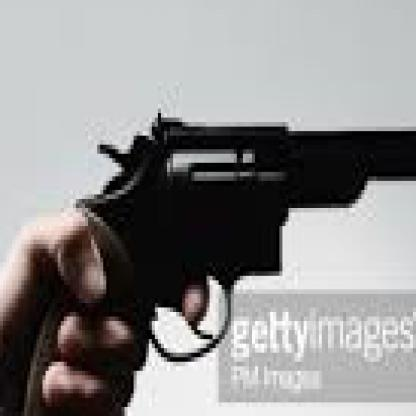gun: (0, 104, 413, 411)
